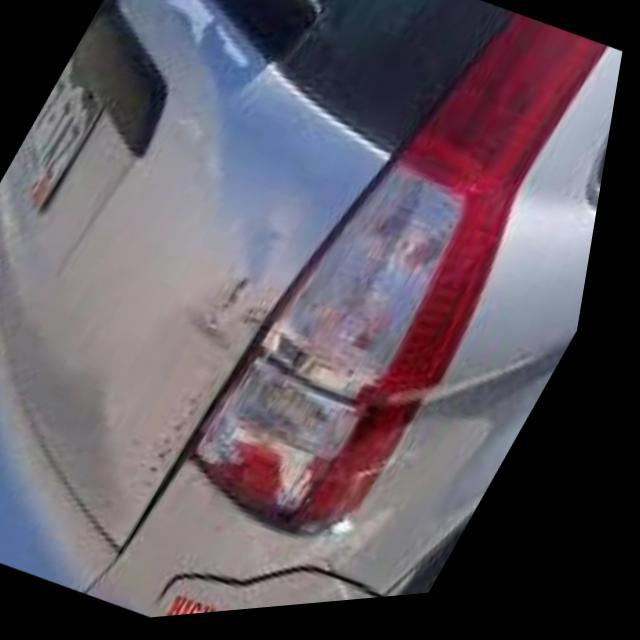lamp broken: (201, 284, 438, 543)
rub: (129, 284, 297, 504)
